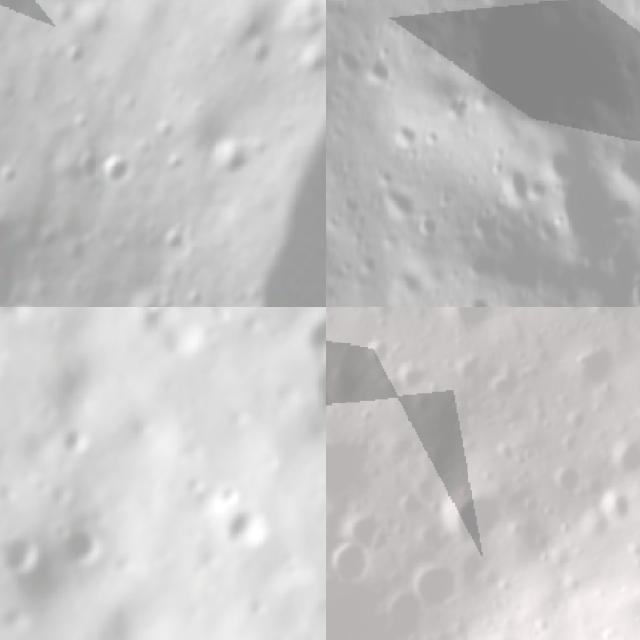crater: (394, 446, 640, 640), (188, 116, 264, 192), (436, 477, 514, 548), (326, 416, 377, 517), (79, 136, 144, 202), (407, 554, 468, 616), (562, 328, 631, 382), (371, 590, 434, 640), (51, 135, 105, 193), (0, 532, 57, 583), (433, 307, 513, 343), (601, 136, 640, 207), (58, 520, 119, 562), (329, 542, 380, 592), (283, 31, 326, 90), (489, 161, 531, 212), (376, 178, 416, 231), (108, 275, 171, 307), (49, 418, 97, 460), (228, 502, 266, 554), (49, 33, 92, 77), (236, 30, 275, 74), (612, 249, 640, 307), (443, 277, 496, 307), (360, 52, 400, 90), (386, 114, 420, 156), (303, 355, 326, 417), (0, 152, 26, 195), (0, 307, 39, 328), (177, 281, 205, 307), (311, 307, 326, 355), (126, 307, 170, 322), (326, 385, 340, 422), (99, 0, 126, 10)
